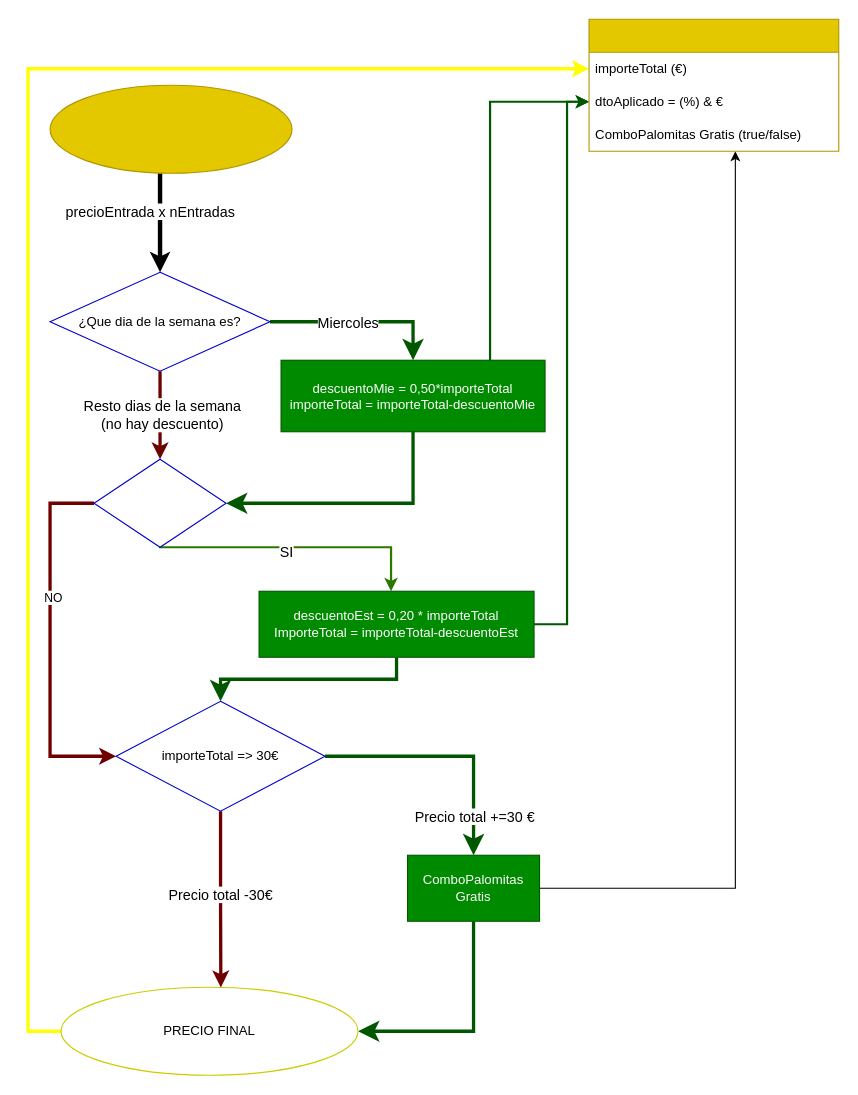
Image size: 858x1095. Some labels were removed from this diagram. The box of each missing label's shape, as (x1, y1, x2, y2) in pixels:
ENTRADA = 8€: (49, 84, 292, 173)
Entradas: (588, 18, 839, 151)
¿Tiene tarjeta estudiante?: (93, 458, 226, 547)
